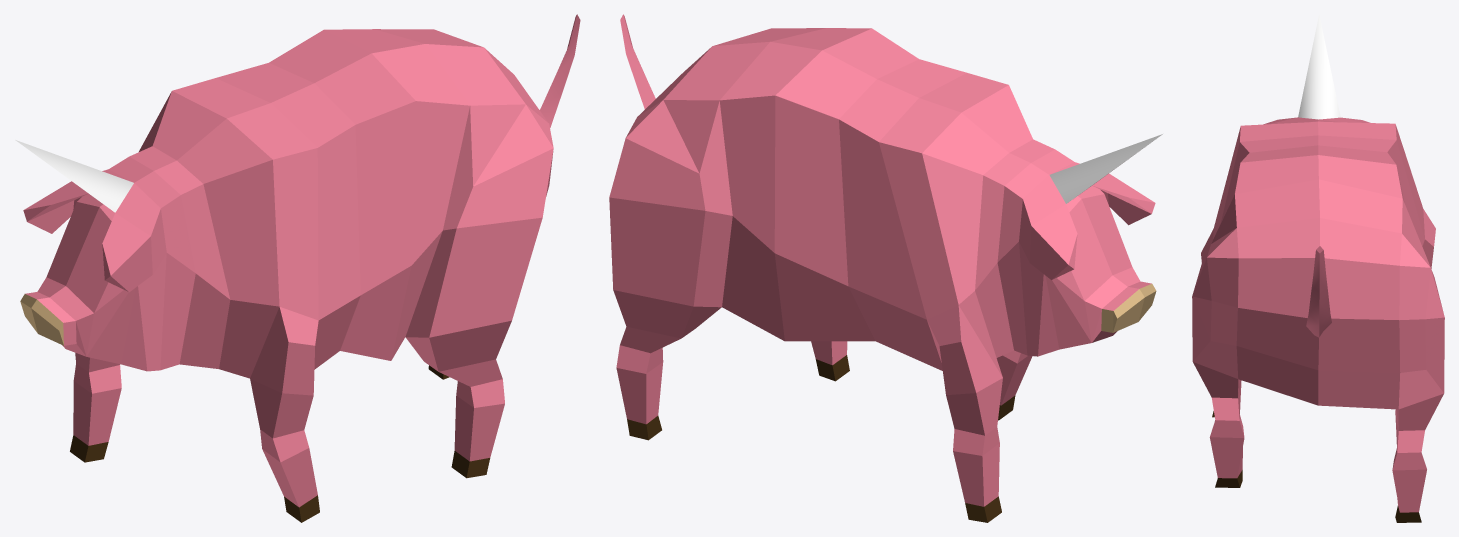
File: pigRunning10.obj
3 renders of one model, left to right at view 1: azimuth 30°, elevation 25°; view 2: azimuth 150°, elevation 25°; view 3: azimuth 270°, elevation 25°, orthographic. The views are drawn at different scales.
Visible parts, largest first — view 1: Pig_Cylinder.002_Pig_Cylinder.003; view 2: Pig_Cylinder.002_Pig_Cylinder.003; view 3: Pig_Cylinder.002_Pig_Cylinder.003.
Boxes of the visible parts, x1,y1,x2,y2 form: Pig_Cylinder.002_Pig_Cylinder.003: (15,14,580,522); Pig_Cylinder.002_Pig_Cylinder.003: (609,14,1162,522); Pig_Cylinder.002_Pig_Cylinder.003: (1192,14,1444,522).
Bounding box in the file's own units: 23.13 × 15.32 × 11.11.
